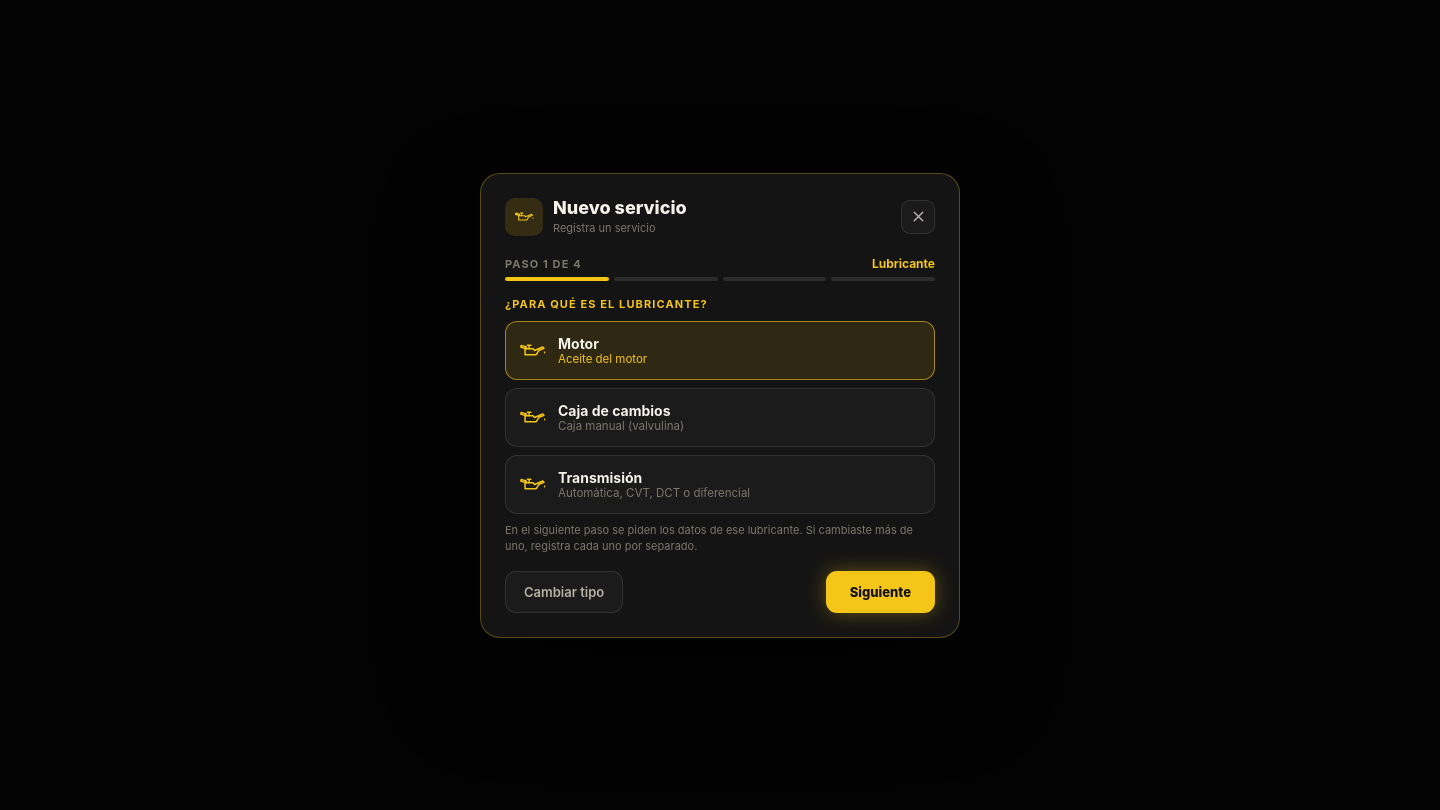
Registrar servicio > Aceite (primer paso: tipo de lubricante) › motor (por defecto) lleva a la pasarela de marcas y viscosidad
The image size is (1440, 810).
Step 1. Click the button "Siguiente" → (880, 592), box [826,570,935,612]
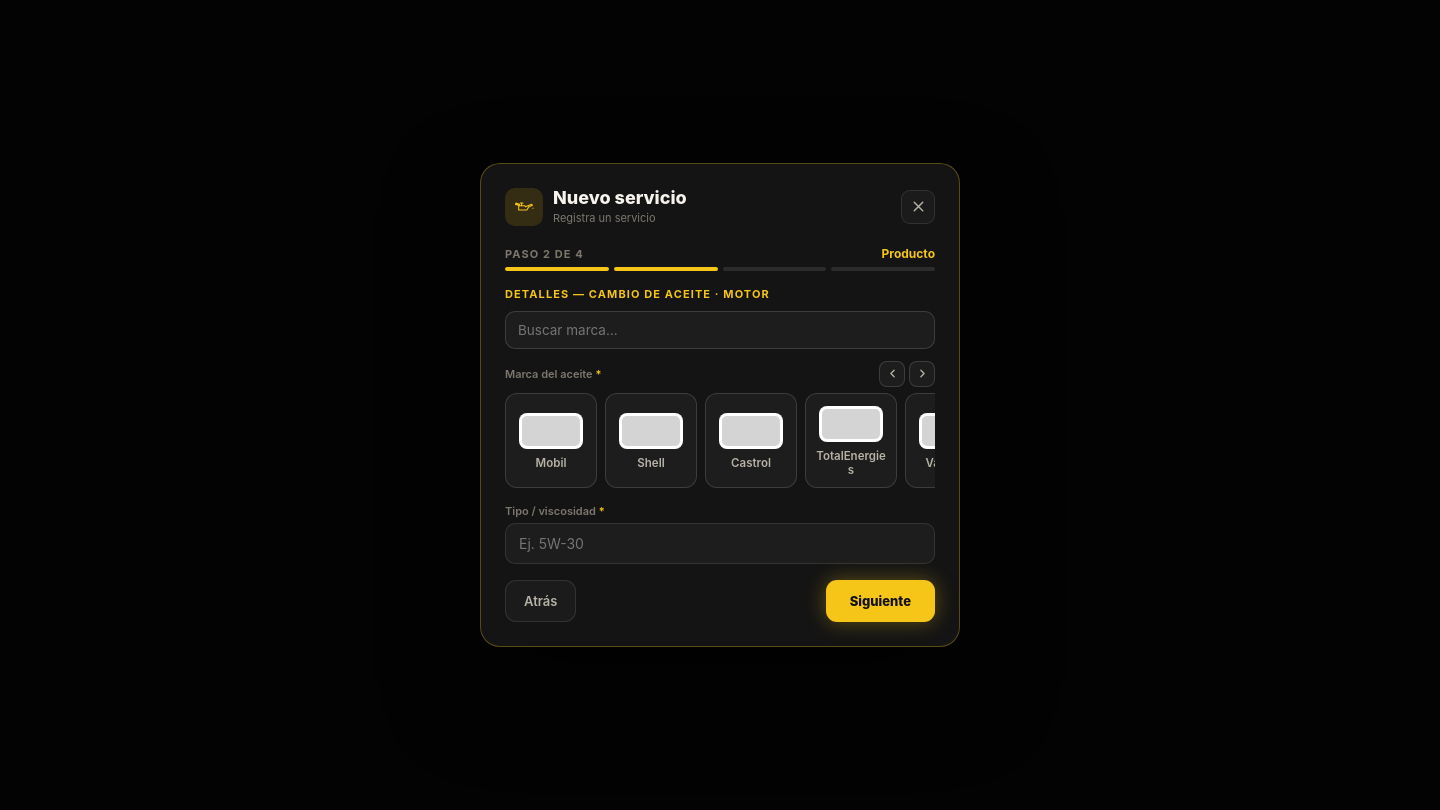
Expected: the text "Paso 2 de 4" is shown, [505,247,584,261]
Expected: the field named "Buscar marca de aceite" is shown, [505,311,935,349]
